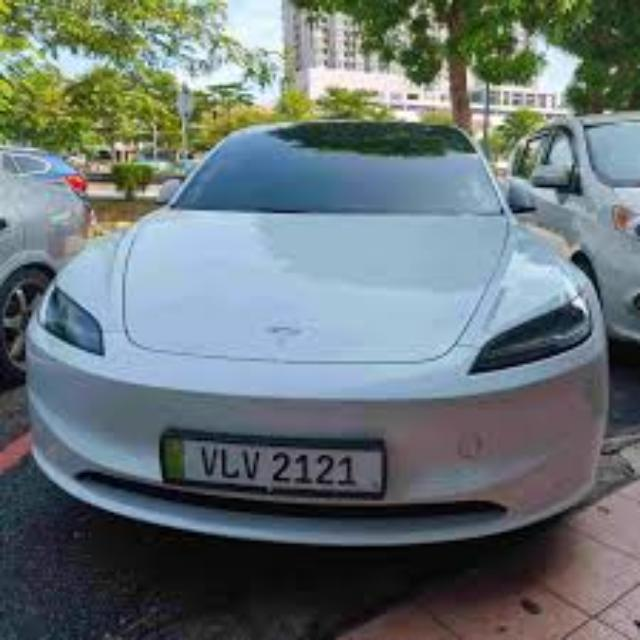License_Plate: (158, 429, 388, 502)
car: (25, 118, 610, 547)
